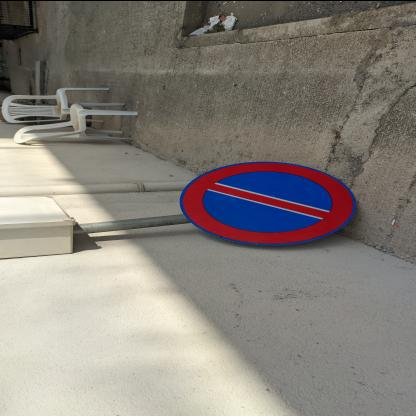No Waiting: (180, 162, 357, 245)
